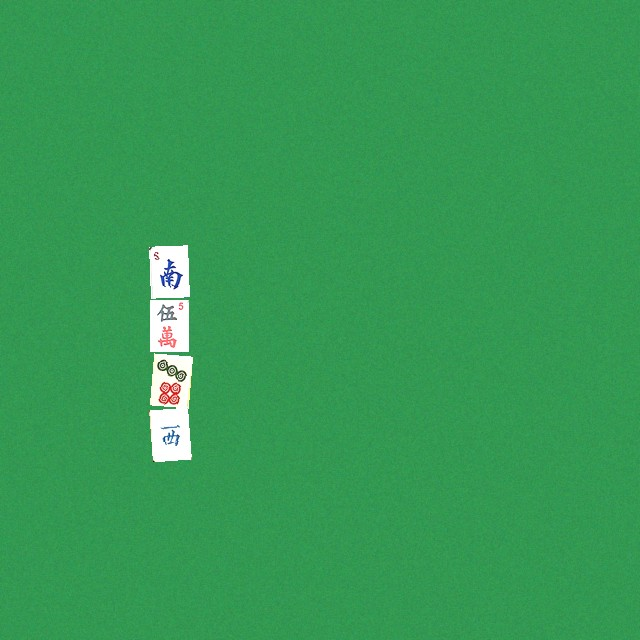tile: (149, 245, 188, 297), (149, 299, 188, 351), (149, 353, 188, 405), (149, 407, 188, 459)
